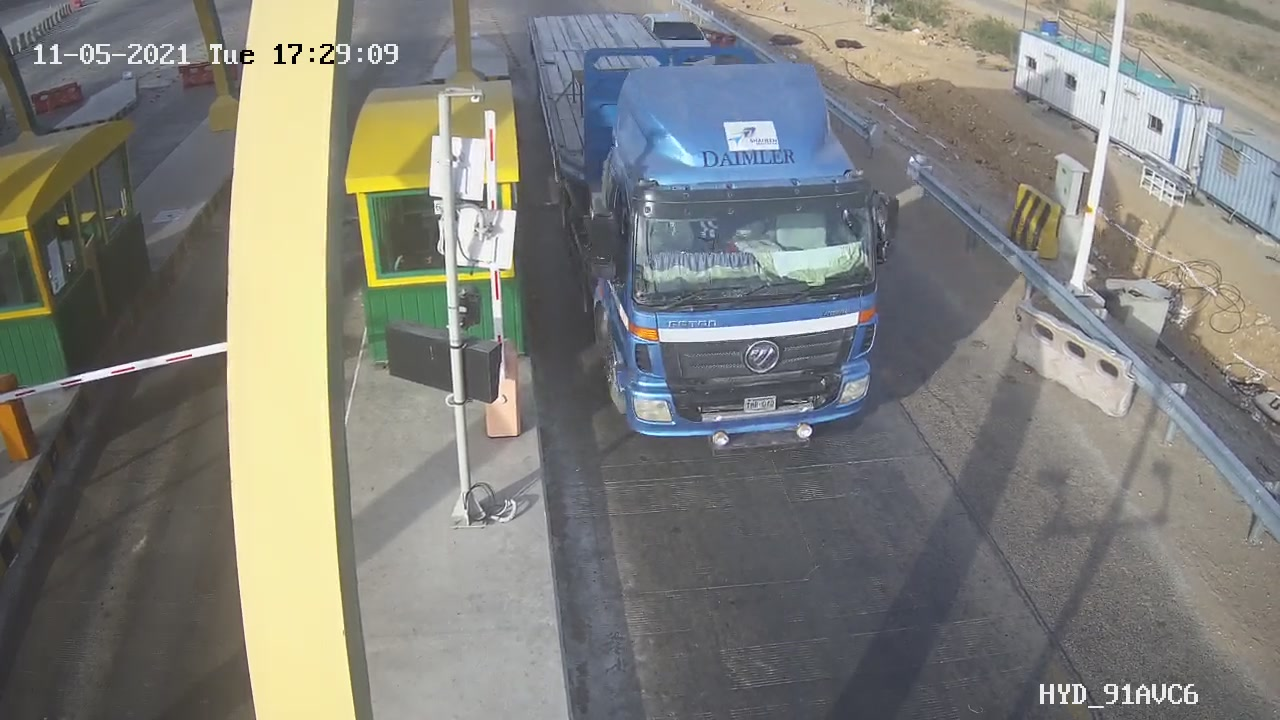F6: (514, 4, 930, 473)
